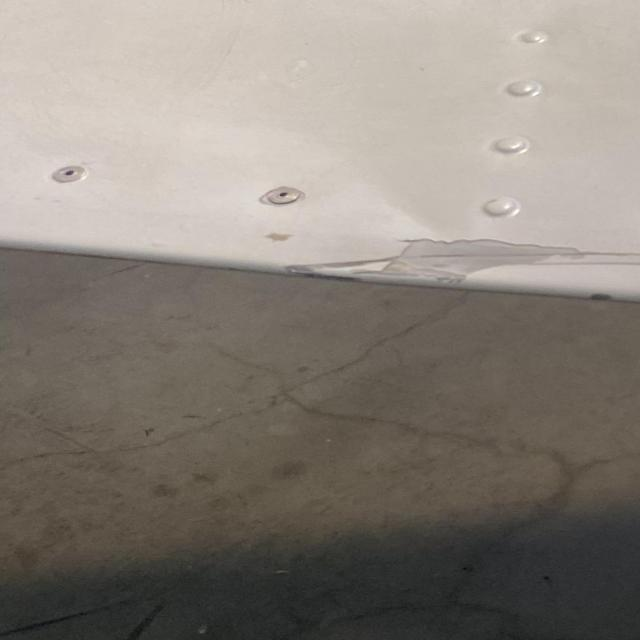Paint-off: (294, 241, 582, 288)
Scratch: (281, 241, 640, 288)
